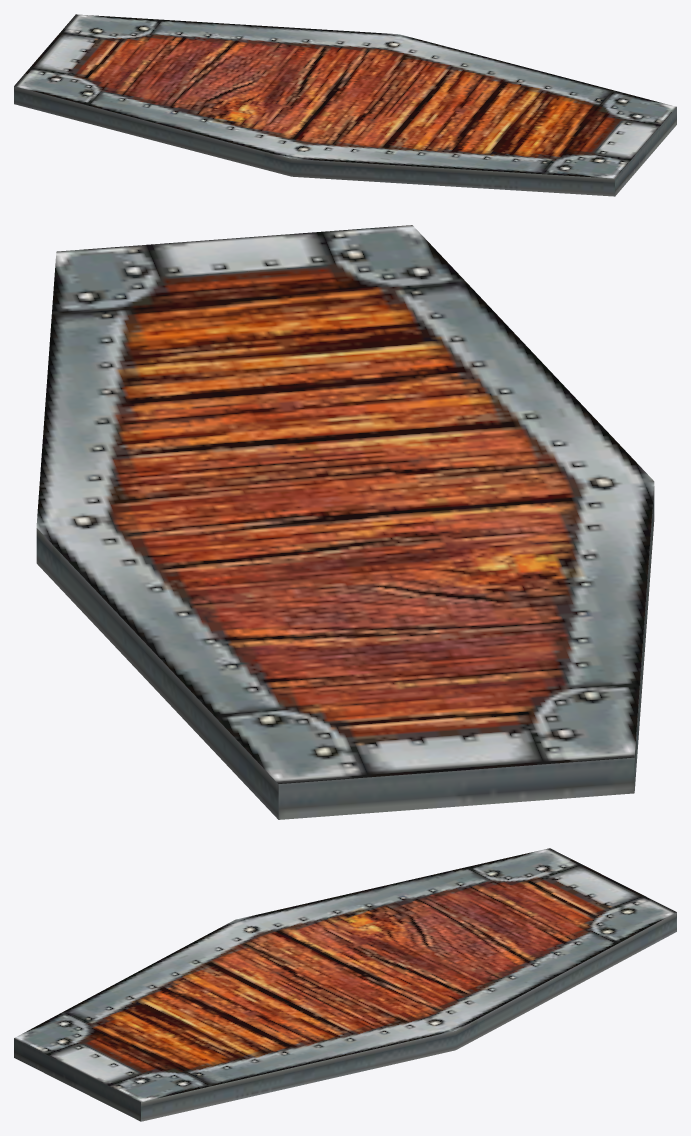
Rendered from msg.glb.
3 views of the same model, one above another, from view 1: azimuth 30°, elevation 25°; view 2: azimuth 150°, elevation 25°; view 3: azimuth 270°, elevation 25° (orthographic). The views are drawn at different scales.
Parts seen in each view (by area): view 1: msg; view 2: msg; view 3: msg.
Part boxes in pixels (x1,y1,x2,y2): msg: (14, 14, 676, 196); msg: (36, 225, 654, 819); msg: (14, 848, 676, 1121).
Bounding box in the file's own units: 0.8549 × 0.0308 × 0.9428.
1 material, 1 textured.
